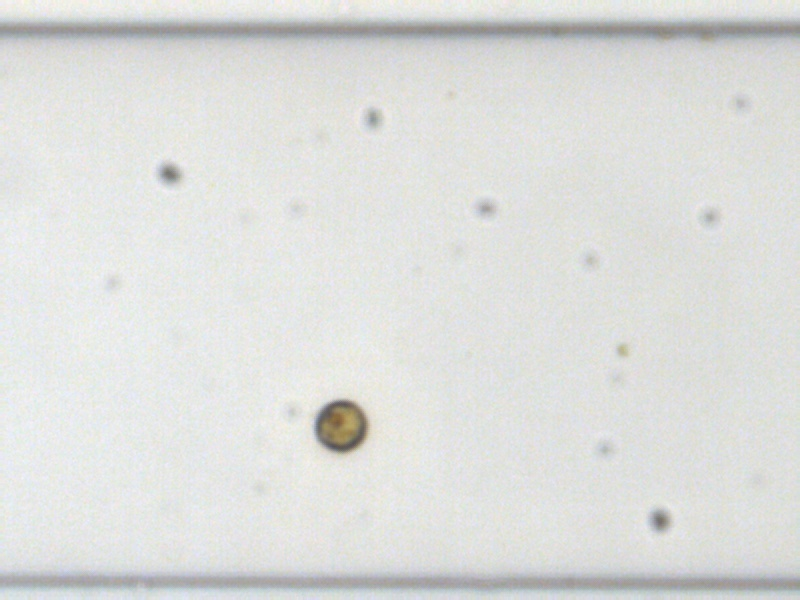Chlorella: (614, 342, 629, 359)
Haematococcus: (314, 400, 369, 455)
